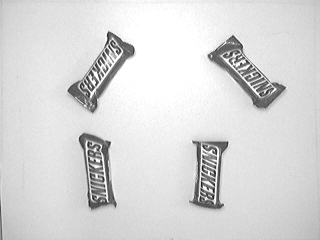Snickers: (204, 32, 288, 113), (64, 28, 138, 116), (77, 131, 120, 214), (187, 137, 230, 212)
